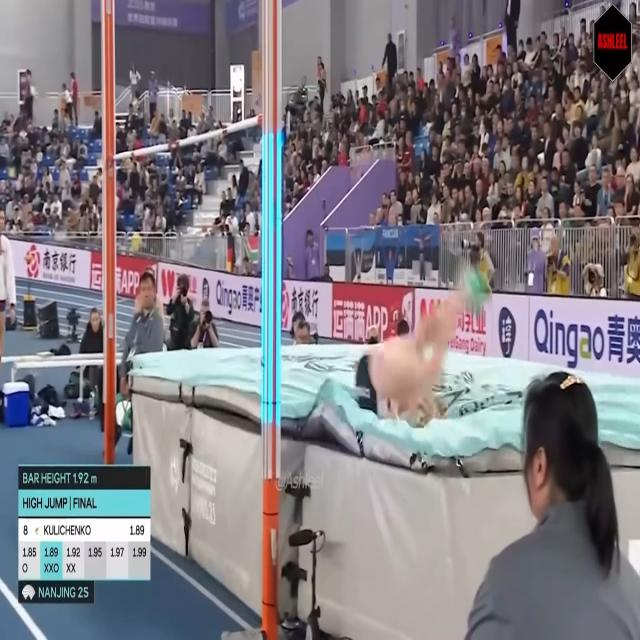land: (358, 266, 482, 428)
